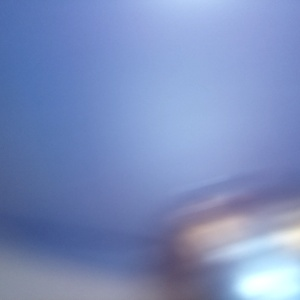alive_ball: (136, 20, 207, 100), (186, 26, 229, 68)
